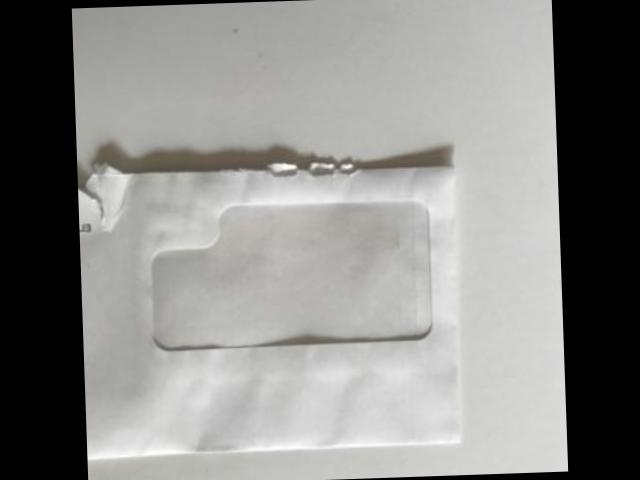cardboard paper: (78, 169, 462, 458)
